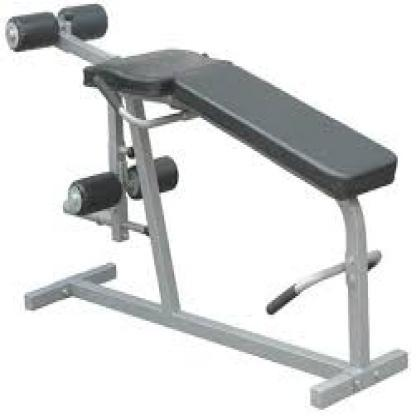reg curl machine: (1, 0, 412, 412)
